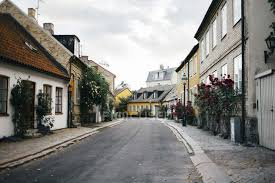strada: (14, 119, 186, 183)
